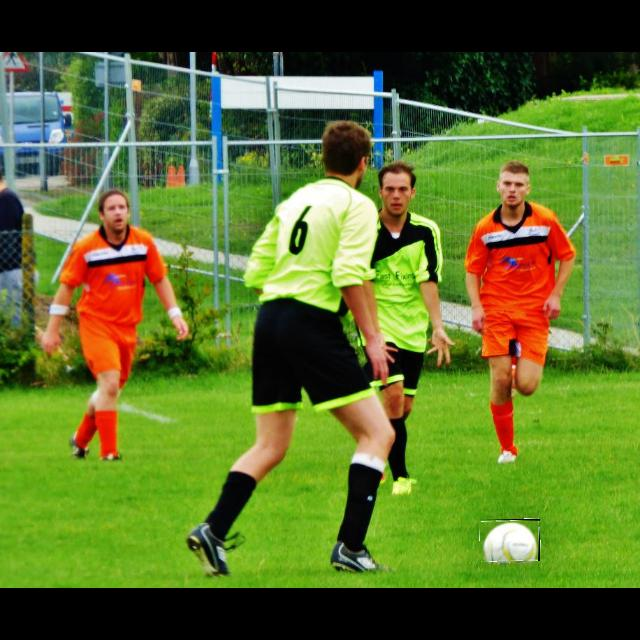Football: (480, 519, 540, 561)
